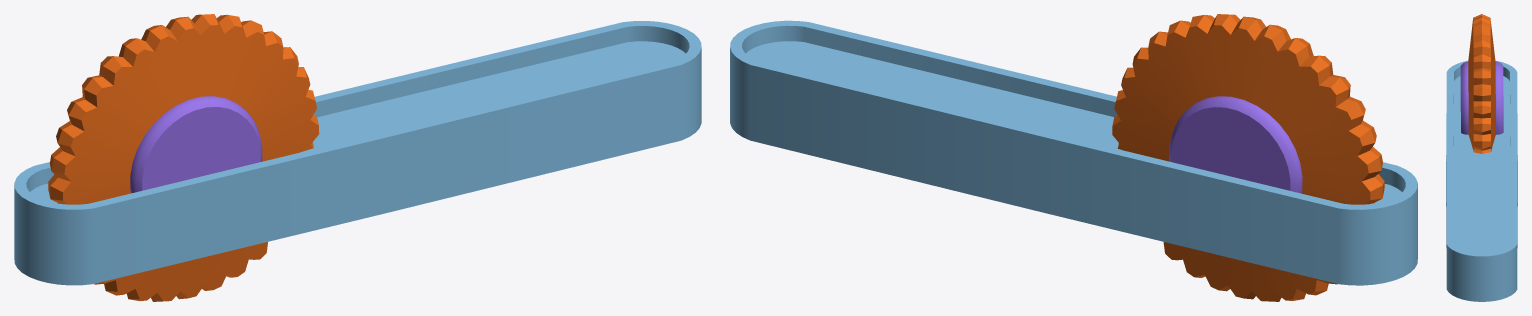
File: active_saw.fbx
The picture shows the model from 3 angles, left to right: view 1: azimuth 30°, elevation 25°; view 2: azimuth 150°, elevation 25°; view 3: azimuth 270°, elevation 25°; orthographic projection. The views are drawn at different scales.
Parts seen in each view (by area): view 1: active_saw, saw.001; view 2: active_saw, saw.001; view 3: active_saw, saw.001.
Part boxes in pixels (left/top/right/bottom): active_saw: left=14, top=21, right=701, bottom=285; saw.001: left=48, top=14, right=319, bottom=301; active_saw: left=730, top=20, right=1417, bottom=285; saw.001: left=1112, top=14, right=1384, bottom=301; active_saw: left=1446, top=60, right=1517, bottom=301; saw.001: left=1460, top=14, right=1503, bottom=153.
Size of the model in its own units: 2.6 by 1.04 by 0.4.
